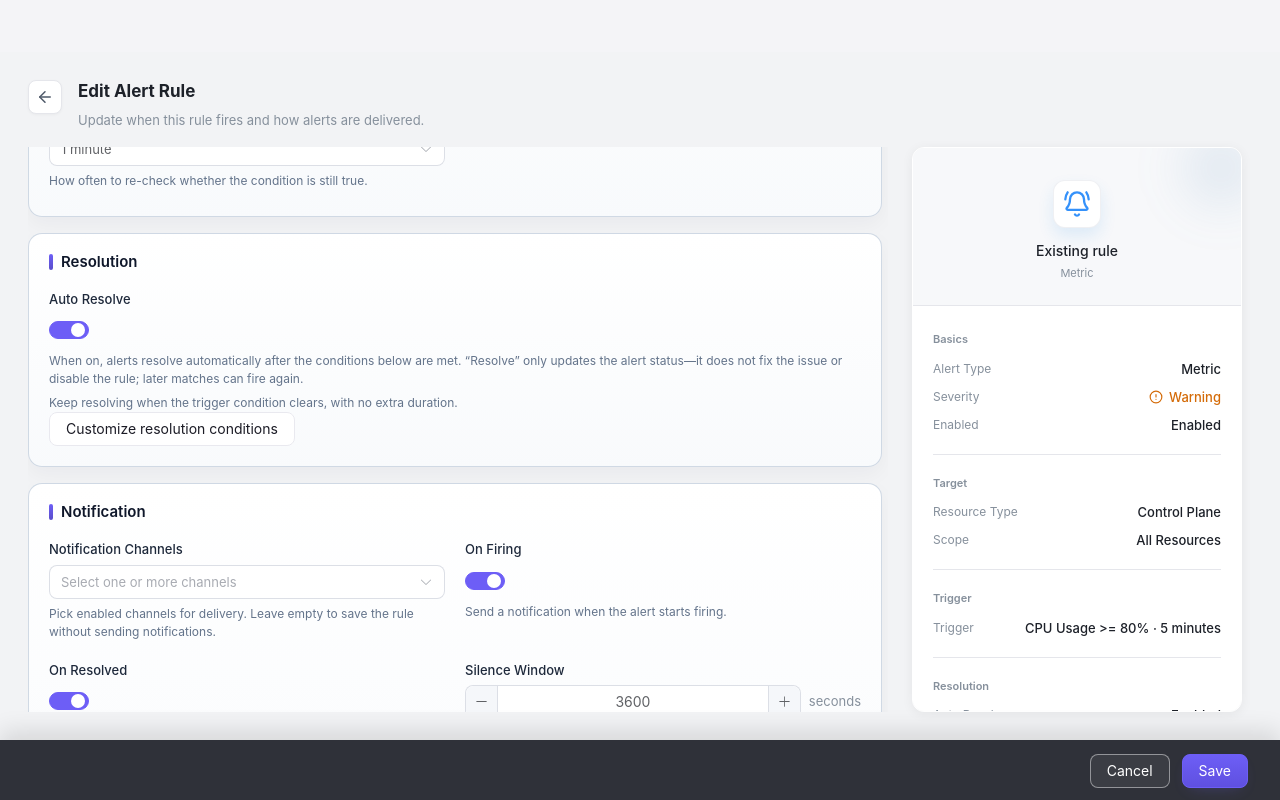
alert policy recovery editor › only adds numeric defaults to a legacy rule after explicit customization
(page scrolled)
Step 1. Click the button "Customize resolution conditions" → coordinates (172, 429), box [49, 412, 295, 446]
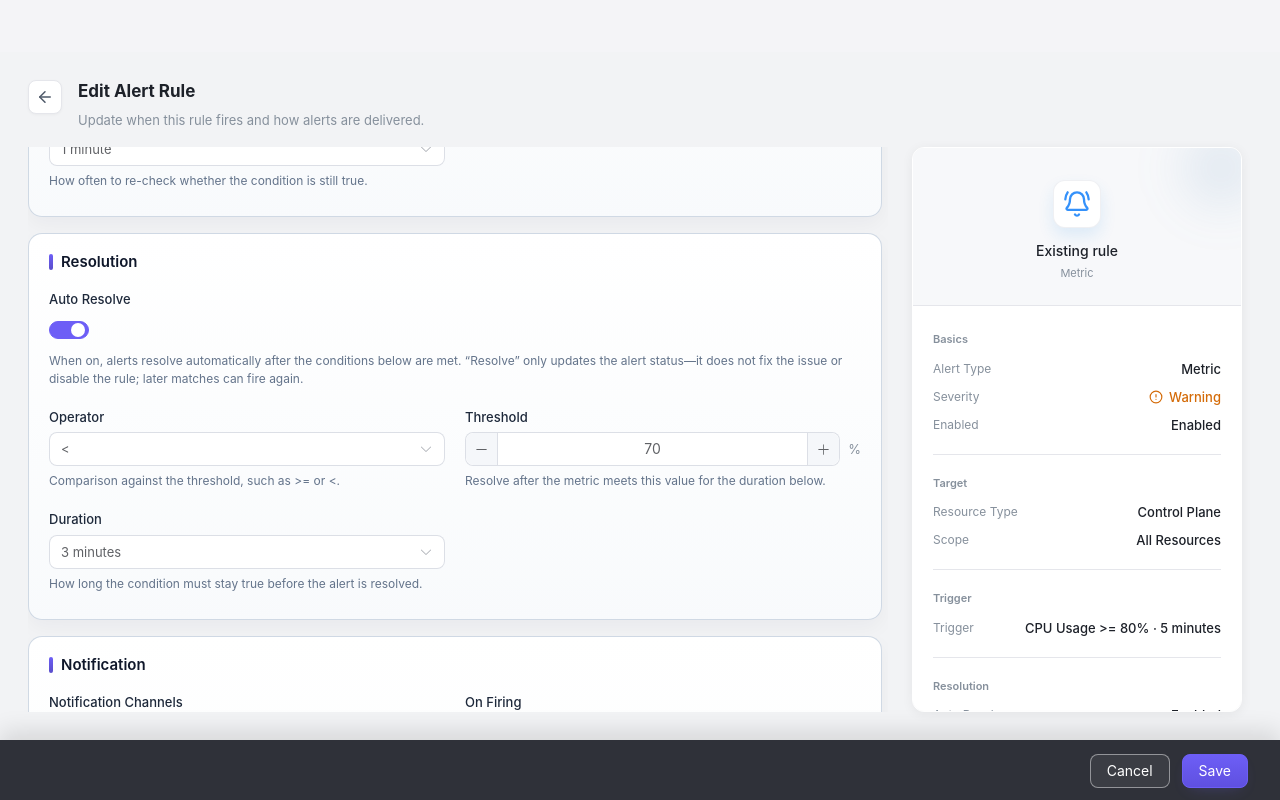
Result: the text "Resolve after the metric meets this value for the duration below." is shown at [465, 472, 861, 490]
